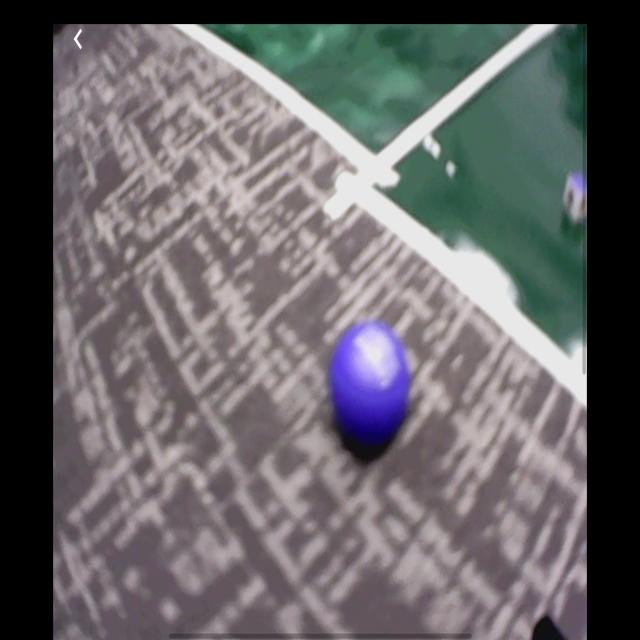ball: (334, 328, 409, 445)
